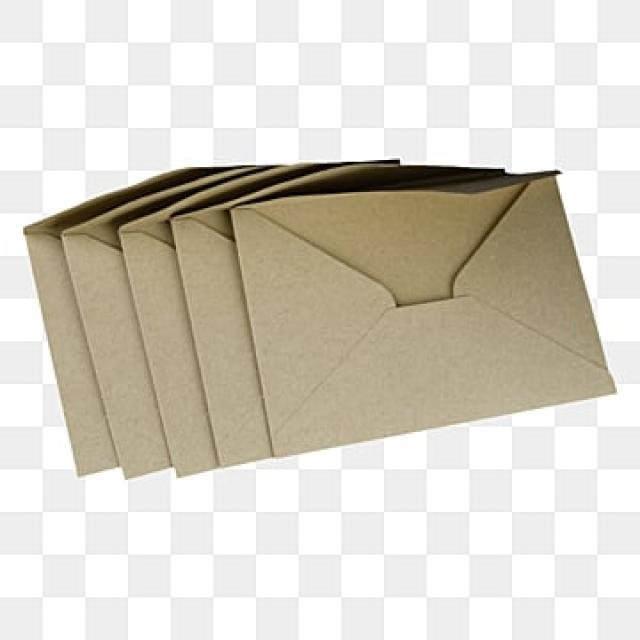PaperCardboard: (29, 156, 617, 484)
